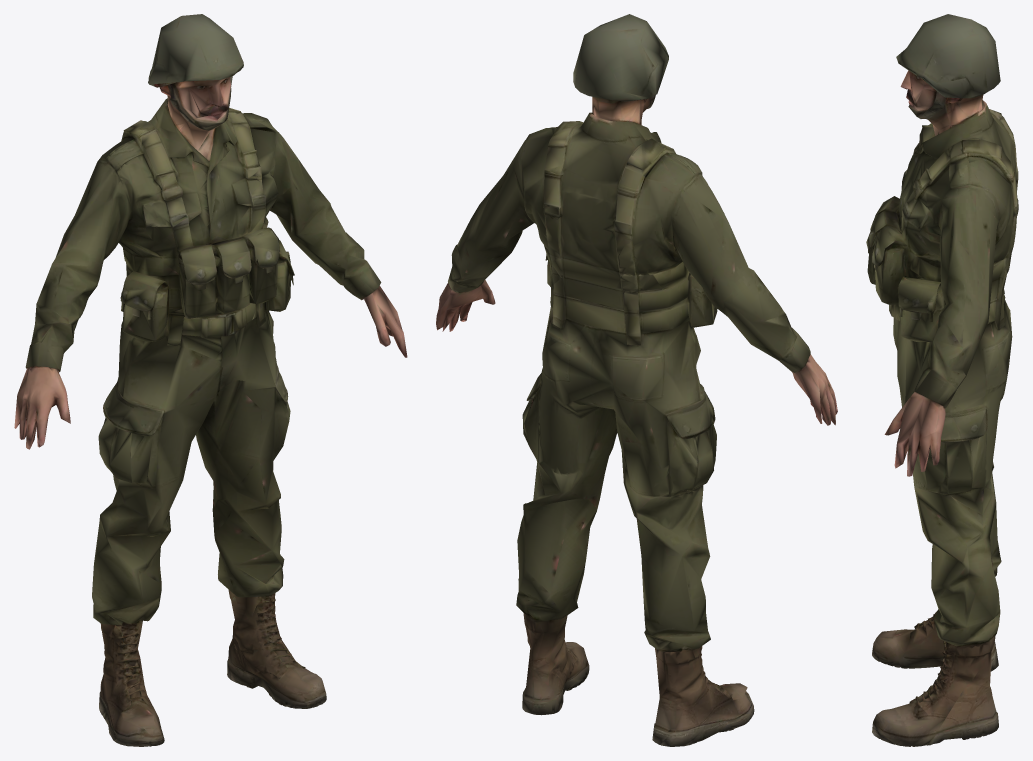
Rendered from soldier_iq_1.glb.
The picture shows the model from 3 angles, left to right: view 1: azimuth 30°, elevation 25°; view 2: azimuth 150°, elevation 25°; view 3: azimuth 270°, elevation 25°; orthographic projection. The views are drawn at different scales.
Visible parts, largest first — view 1: node_0; view 2: node_0; view 3: node_0.
Part boxes in pixels (x1,y1,x2,y2): node_0: (14, 14, 407, 746); node_0: (436, 14, 837, 746); node_0: (866, 14, 1018, 746).
Size of the model in its own units: 0.666 by 1.14 by 0.2328.
1 material, 1 textured.
